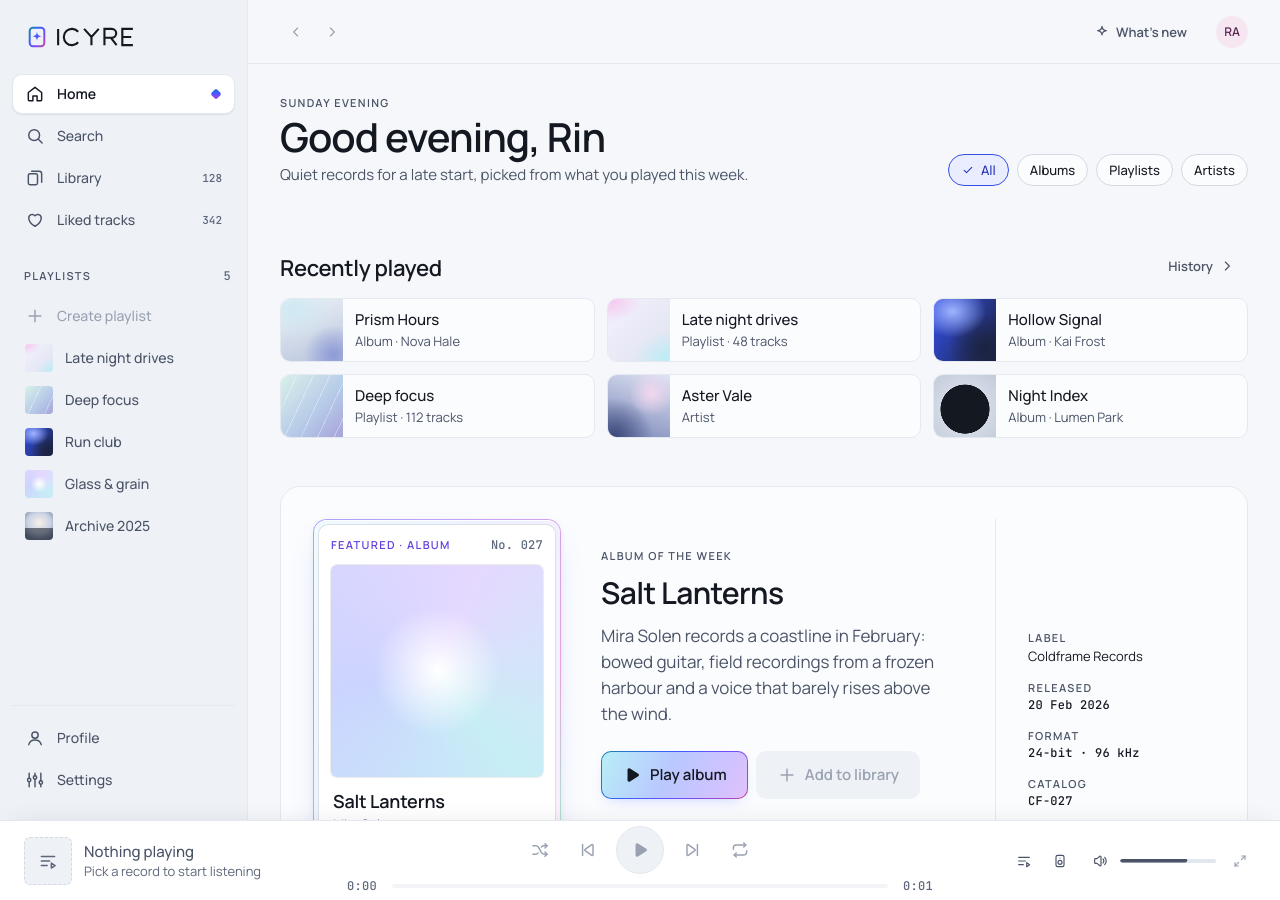
Test case: PlayerBar — Queue drawer, Like, Device picker, Expanded player › lists audio output devices and selects one when setSinkId is supported
Click the button named "Connect to a device".
click(1060, 860)  # box [1044,844,1076,876]
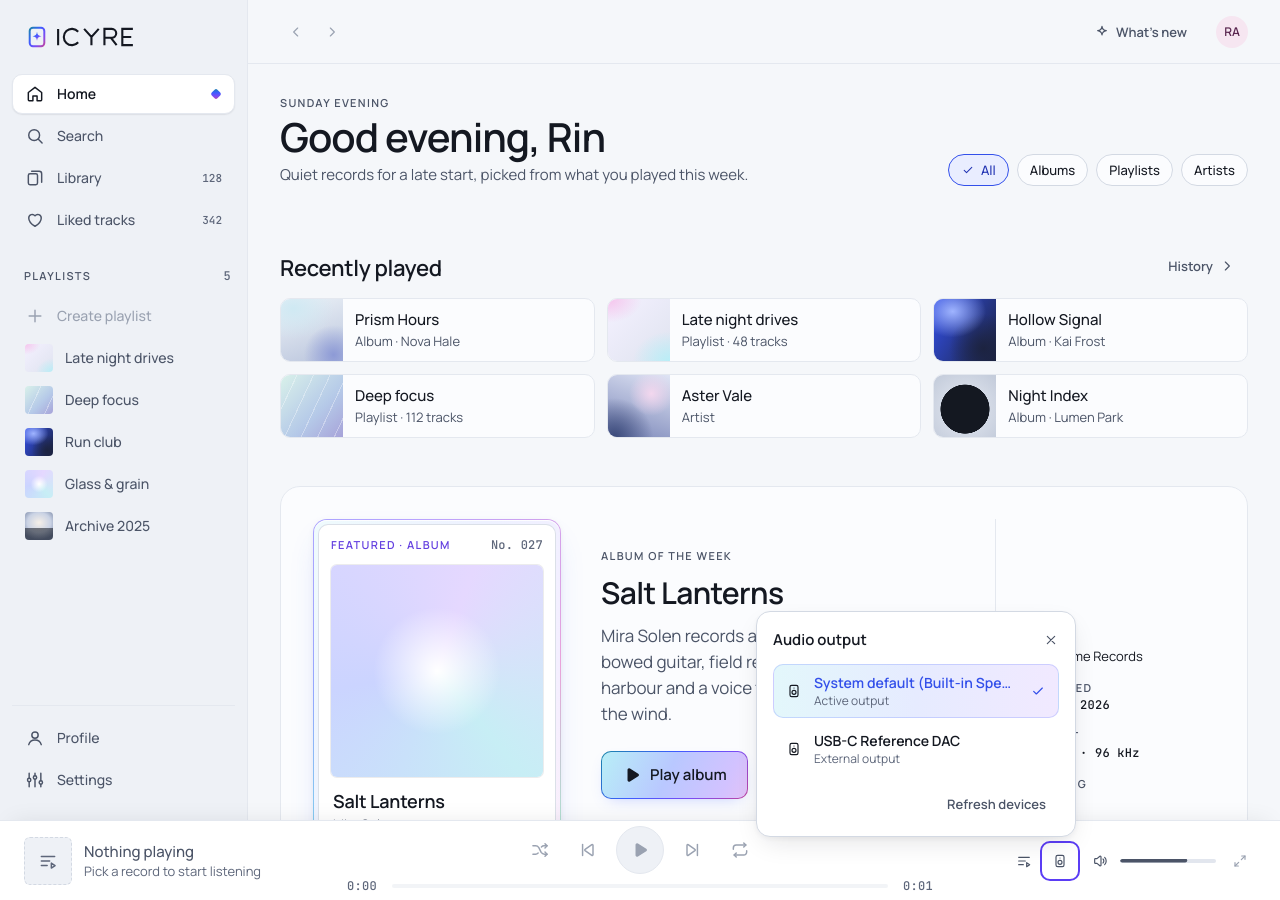
Click the radio button labelled "USB-C Reference DAC External output".
click(916, 748)  # box [773,722,1059,776]
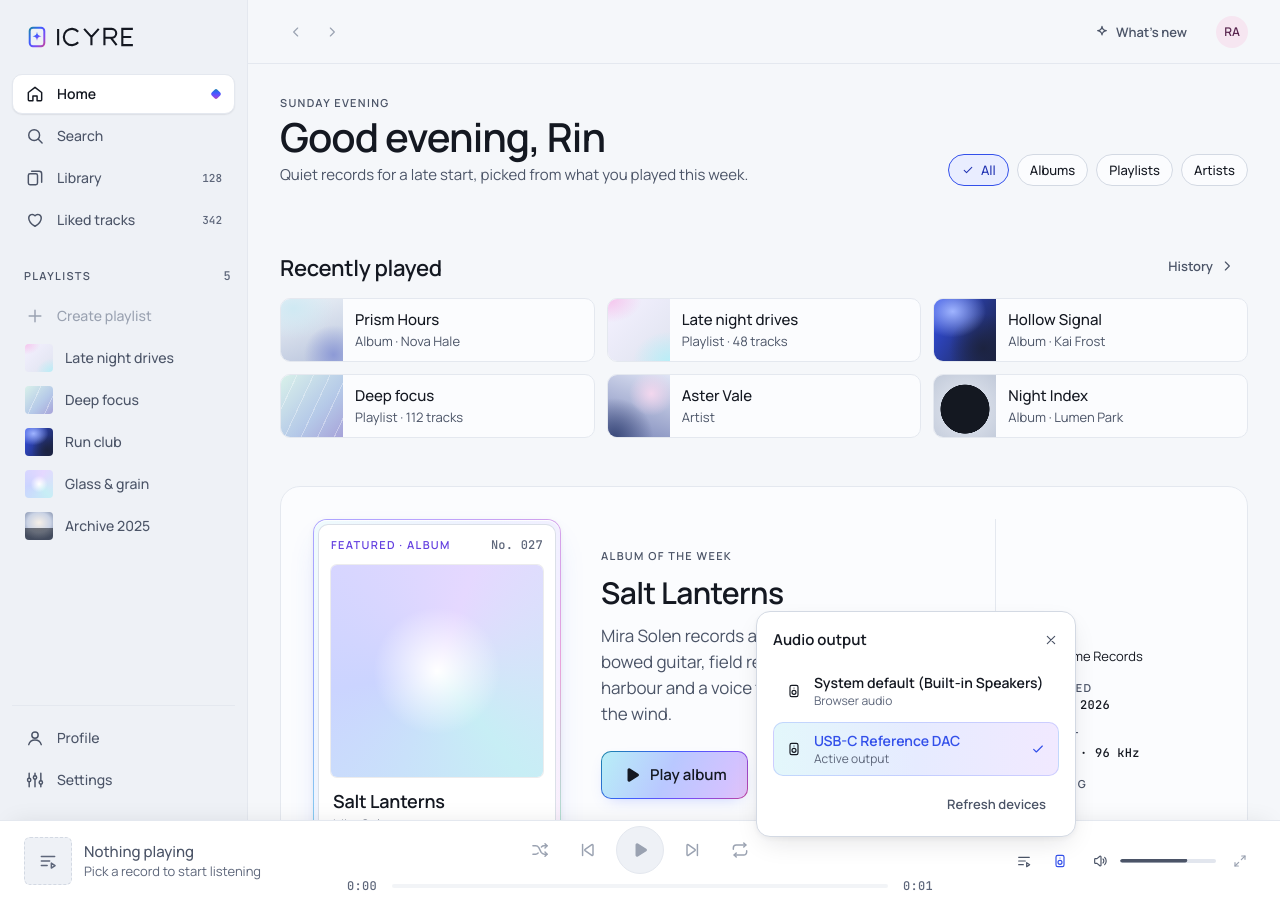
Check: the text "Active output" is shown, box [814,750,889,766]
